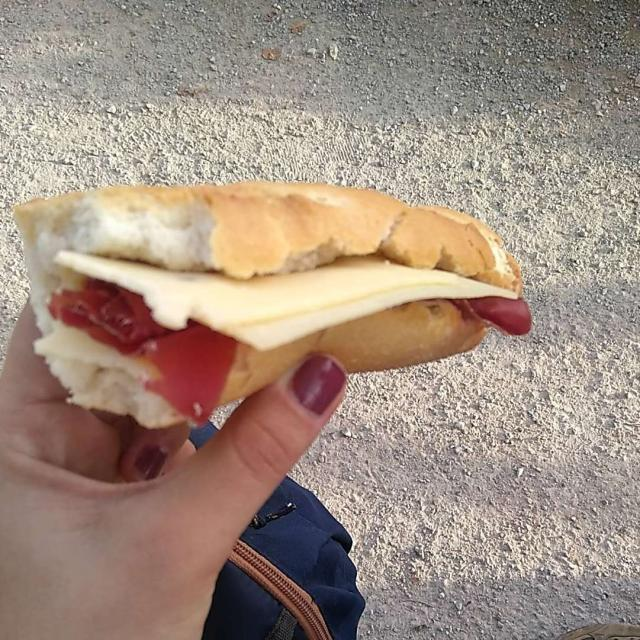cheese: (65, 241, 529, 352)
